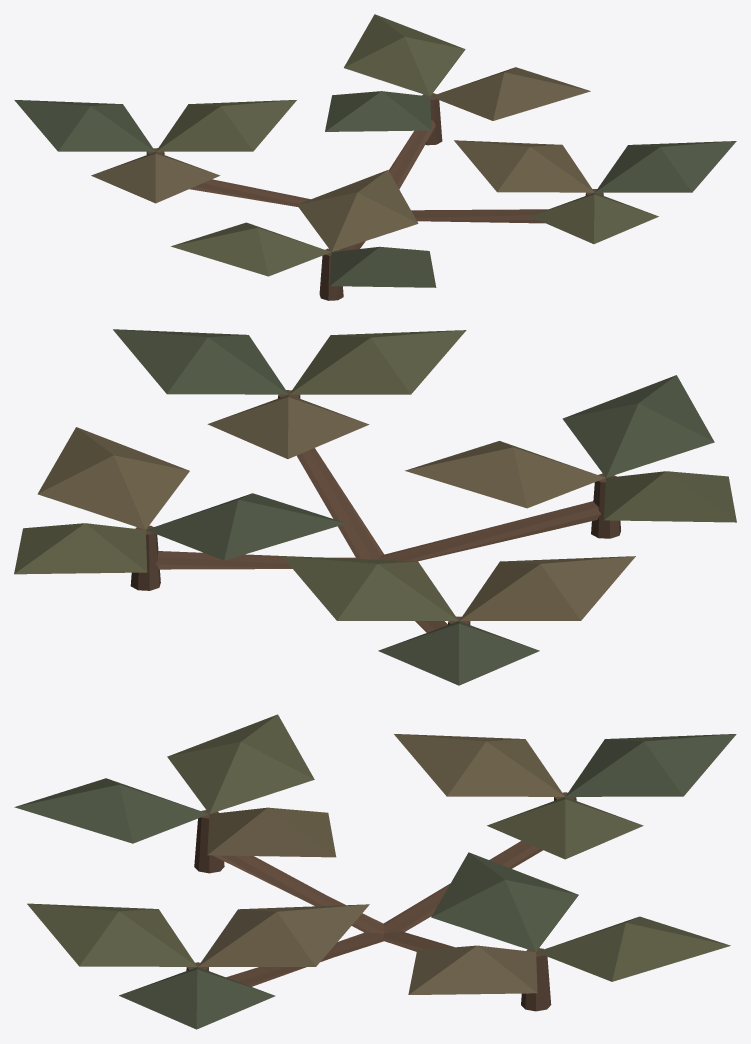
The model's file is wild_strawberry_winter.glb.
3 views of the same model, one above another, from view 1: azimuth 30°, elevation 25°; view 2: azimuth 150°, elevation 25°; view 3: azimuth 270°, elevation 25° (orthographic). The views are drawn at different scales.
Visible parts, largest first — view 1: wild_strawberry_winter; view 2: wild_strawberry_winter; view 3: wild_strawberry_winter.
Boxes of the visible parts, x1,y1,x2,y2 form: wild_strawberry_winter: [14, 14, 736, 300]; wild_strawberry_winter: [14, 329, 736, 685]; wild_strawberry_winter: [14, 714, 736, 1029].
Size of the model in its own units: 1.28 by 0.1684 by 1.24.
